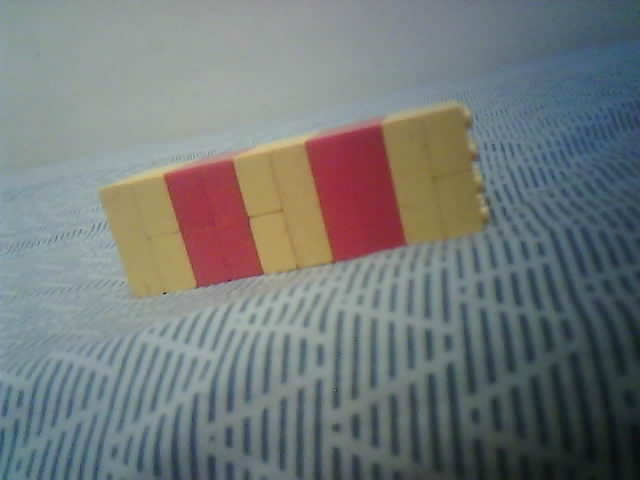lego: (97, 99, 490, 299)
